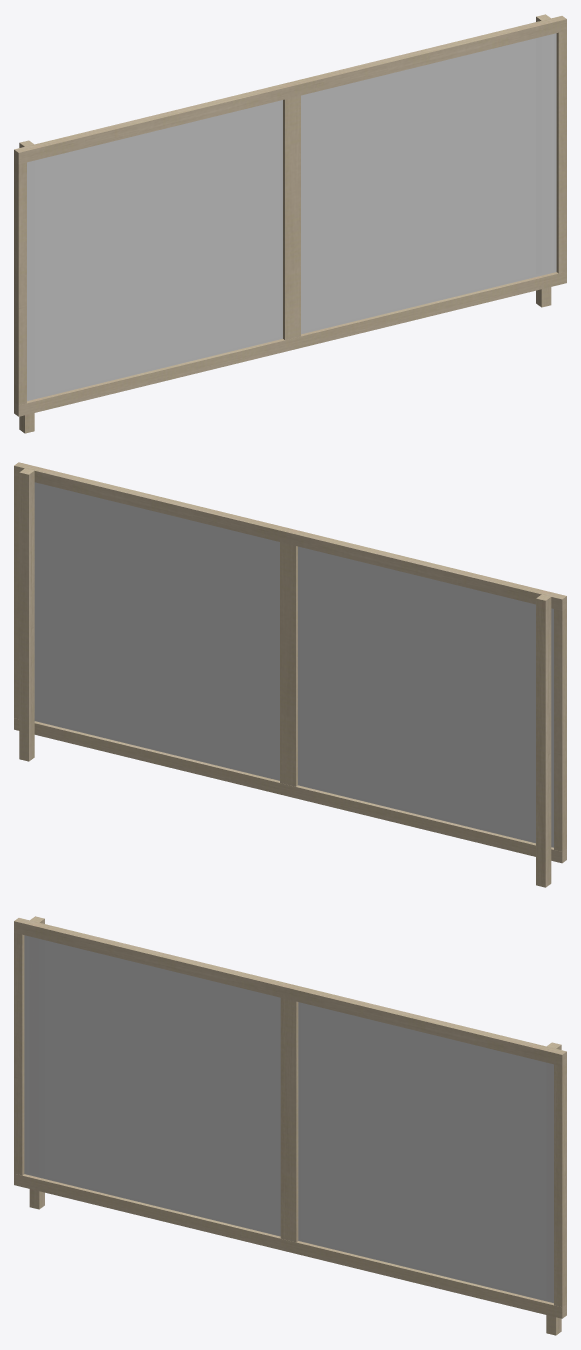
Rendered from EAFpolycadesign_w1998-h920_springoak.fbx.
The picture shows the model from 3 angles, top to bottom: view 1: azimuth 30°, elevation 25°; view 2: azimuth 150°, elevation 25°; view 3: azimuth 330°, elevation 25°; orthographic projection.
Visible parts, largest first — view 1: EAFpolycadesign_w1998-h920_springoak; view 2: EAFpolycadesign_w1998-h920_springoak; view 3: EAFpolycadesign_w1998-h920_springoak.
Part boxes in pixels (box(x1,y1,x2,y2)): EAFpolycadesign_w1998-h920_springoak: box(14, 14, 566, 433); EAFpolycadesign_w1998-h920_springoak: box(14, 462, 566, 887); EAFpolycadesign_w1998-h920_springoak: box(14, 916, 566, 1335).
Bounding box in the file's own units: 200 × 100 × 6.5.
Materials: 3 (2 with a texture image).
